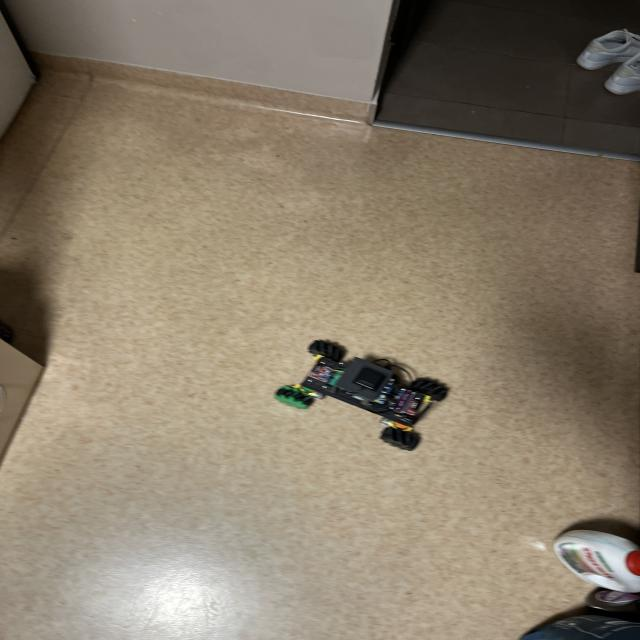robot: (274, 340, 449, 449)
